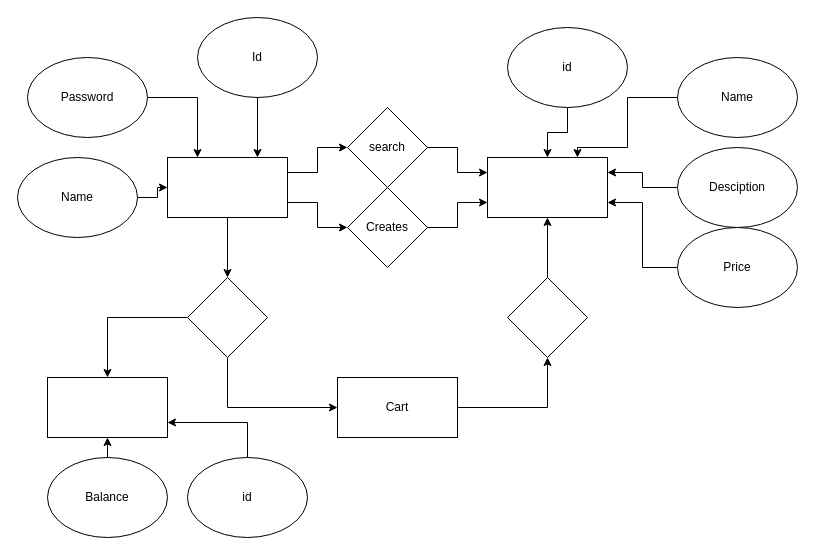
Some shapes in this 815 by 555 pixel diagram are drawn without their labels. Here are the shapes that lost their labels. From the top down, the box of each, then its label:
(166, 156, 288, 218): User
(486, 156, 608, 218): Produkt
(186, 276, 268, 358): has
(506, 276, 588, 358): Contains
(46, 376, 168, 438): Wallet
